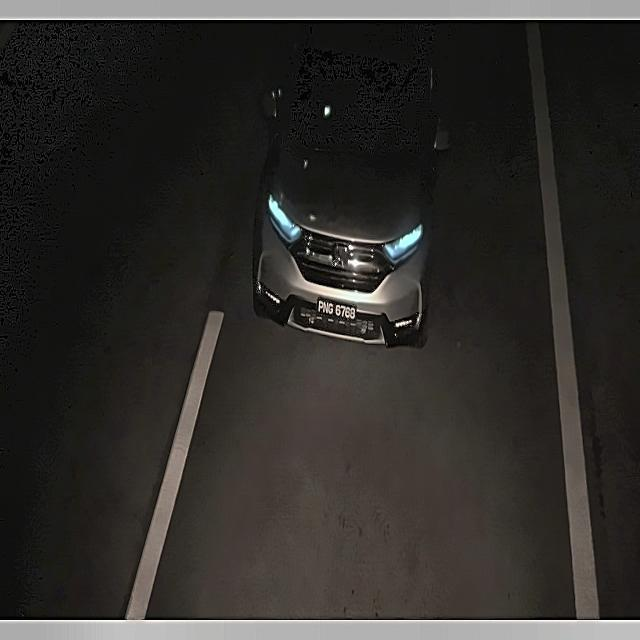car: (315, 292, 362, 329)
